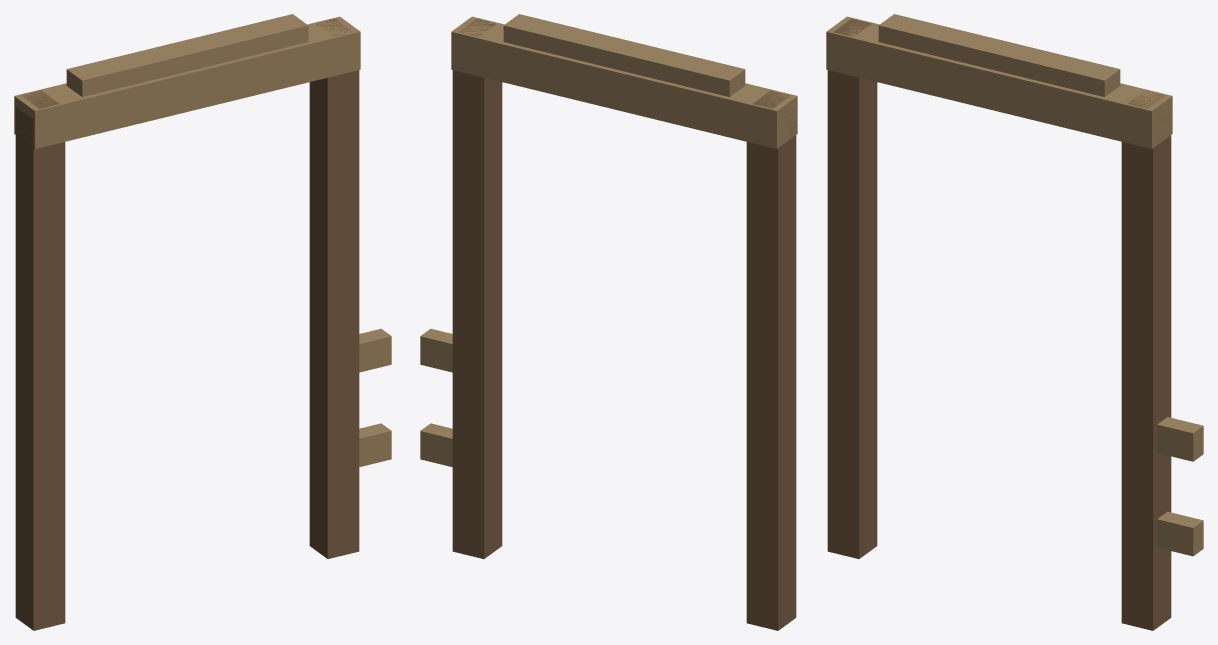
The model's file is TW_WOOD_GATE_FRAME_B_LOD0.glb.
3 renders of one model, left to right at view 1: azimuth 30°, elevation 25°; view 2: azimuth 150°, elevation 25°; view 3: azimuth 330°, elevation 25°, orthographic.
Parts seen in each view (by area): view 1: TW_WOOD_GATE_FRAME_B_LOD0; view 2: TW_WOOD_GATE_FRAME_B_LOD0; view 3: TW_WOOD_GATE_FRAME_B_LOD0.
Boxes of the visible parts, box(x1,y1,x2,y2) form: TW_WOOD_GATE_FRAME_B_LOD0: box(14, 14, 391, 630); TW_WOOD_GATE_FRAME_B_LOD0: box(420, 14, 797, 630); TW_WOOD_GATE_FRAME_B_LOD0: box(826, 14, 1203, 630).
Bounding box in the file's own units: 1.6 × 2.27 × 0.16.
Materials: 1 (1 with a texture image).
